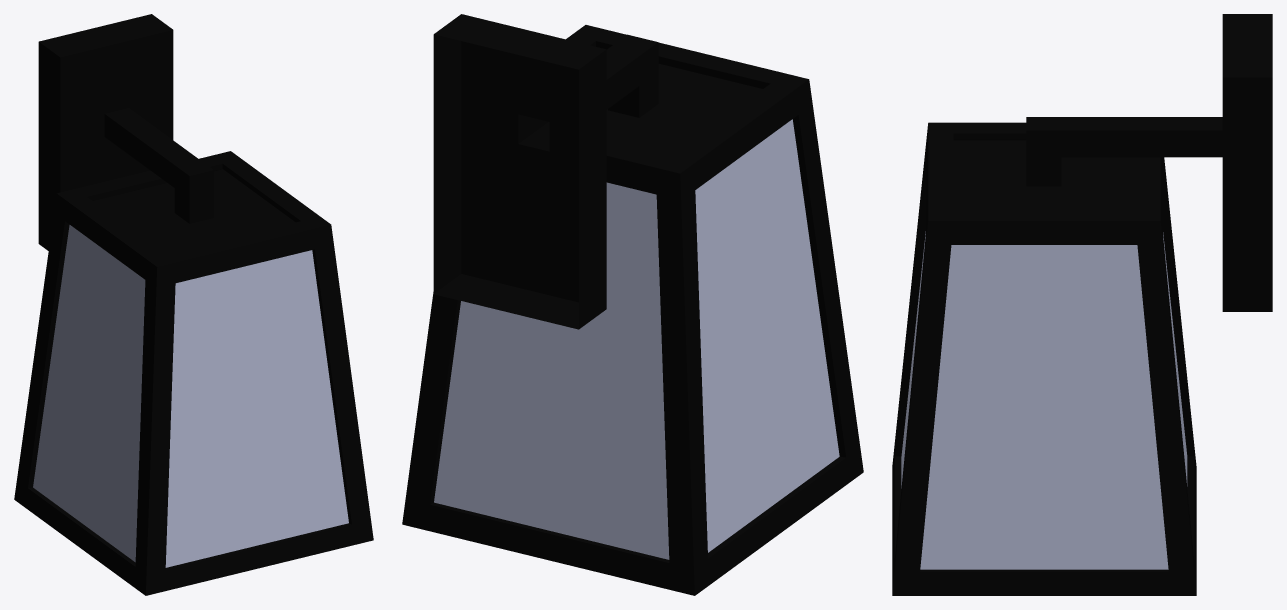
The model's file is SM_Outdoor_Light_002.FBX.
3 views of the same model, side by side, from view 1: azimuth 30°, elevation 25°; view 2: azimuth 150°, elevation 25°; view 3: azimuth 270°, elevation 25° (orthographic). The views are drawn at different scales.
Visible parts, largest first — view 1: SM_Outdoor_Light_002; view 2: SM_Outdoor_Light_002; view 3: SM_Outdoor_Light_002.
Part boxes in pixels (bbox=[...]): SM_Outdoor_Light_002: bbox=[14, 14, 373, 595]; SM_Outdoor_Light_002: bbox=[402, 14, 863, 595]; SM_Outdoor_Light_002: bbox=[892, 14, 1272, 595].
Size of the model in its own units: 22.11 by 27.63 by 38.91.
